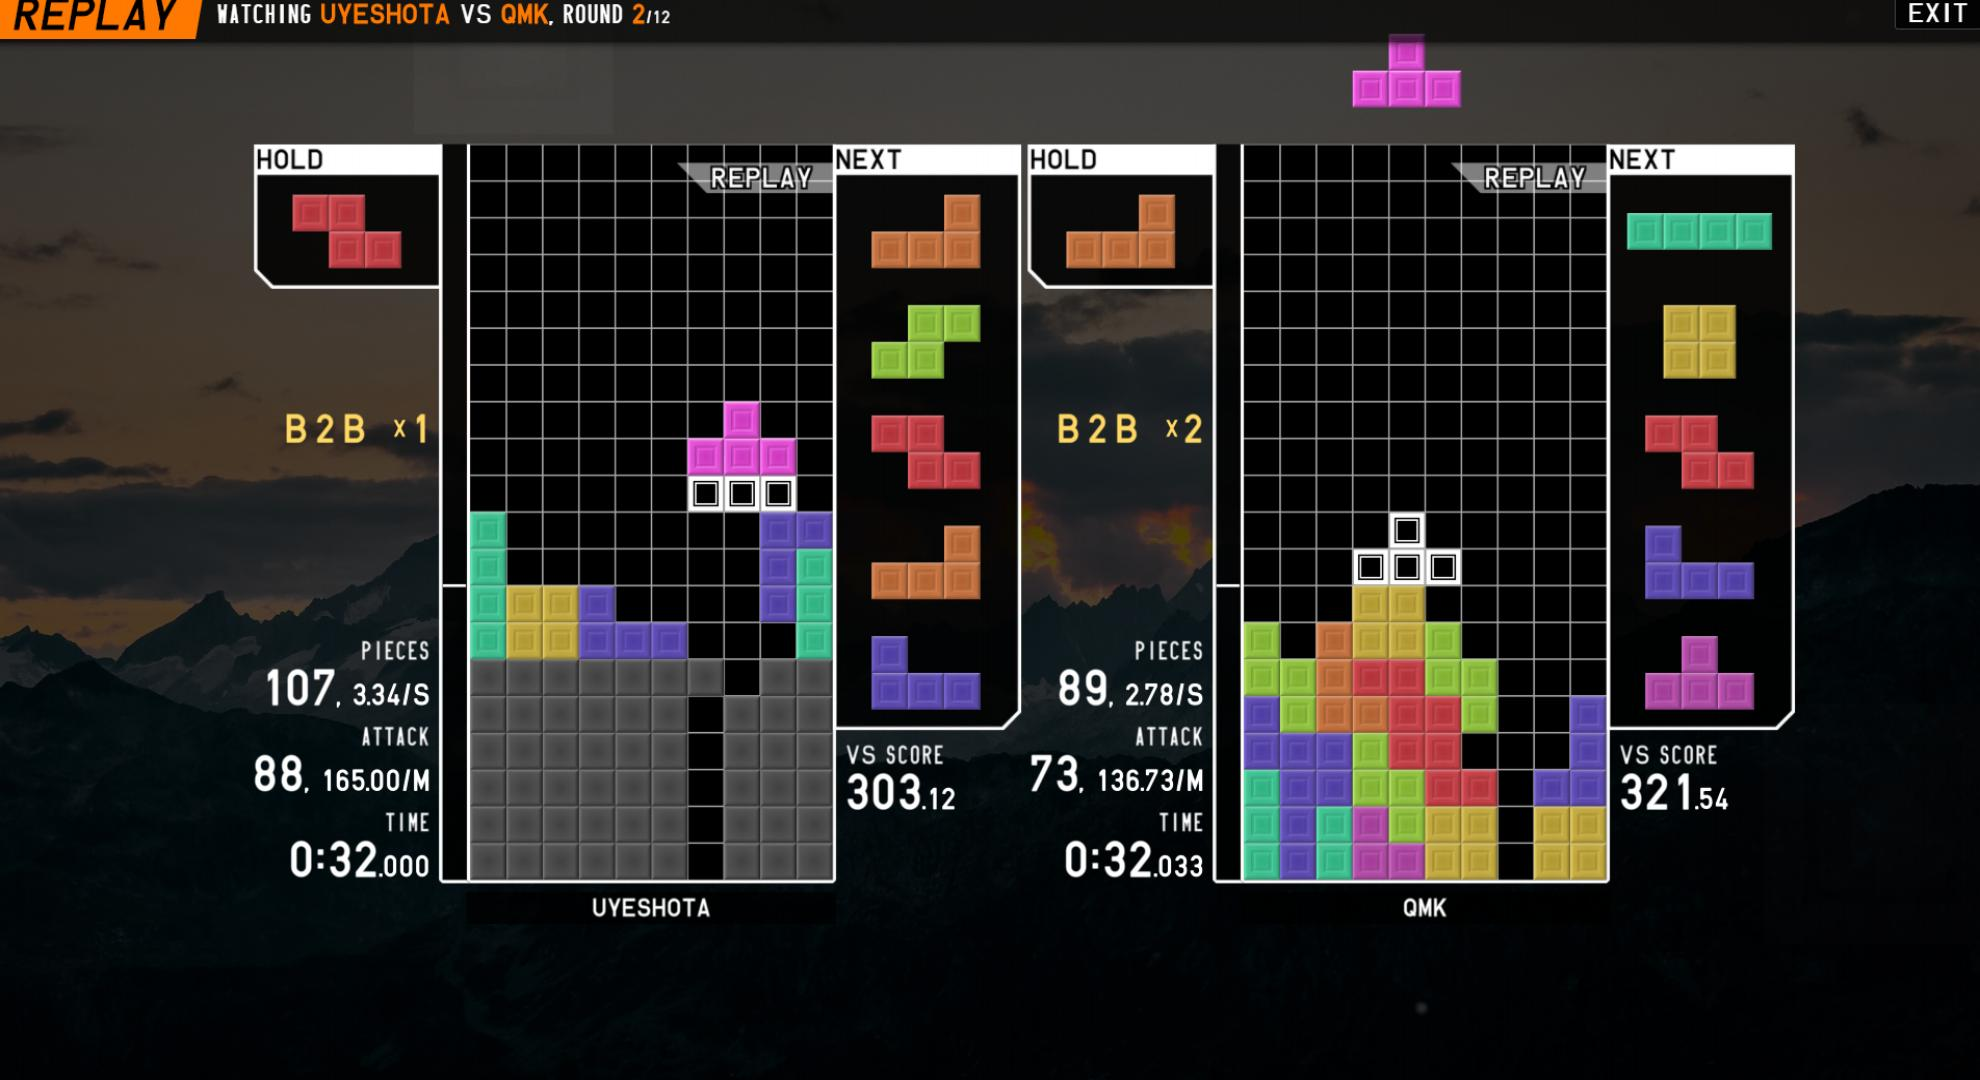tspin: (683, 583, 801, 702), (1459, 698, 1574, 813)
